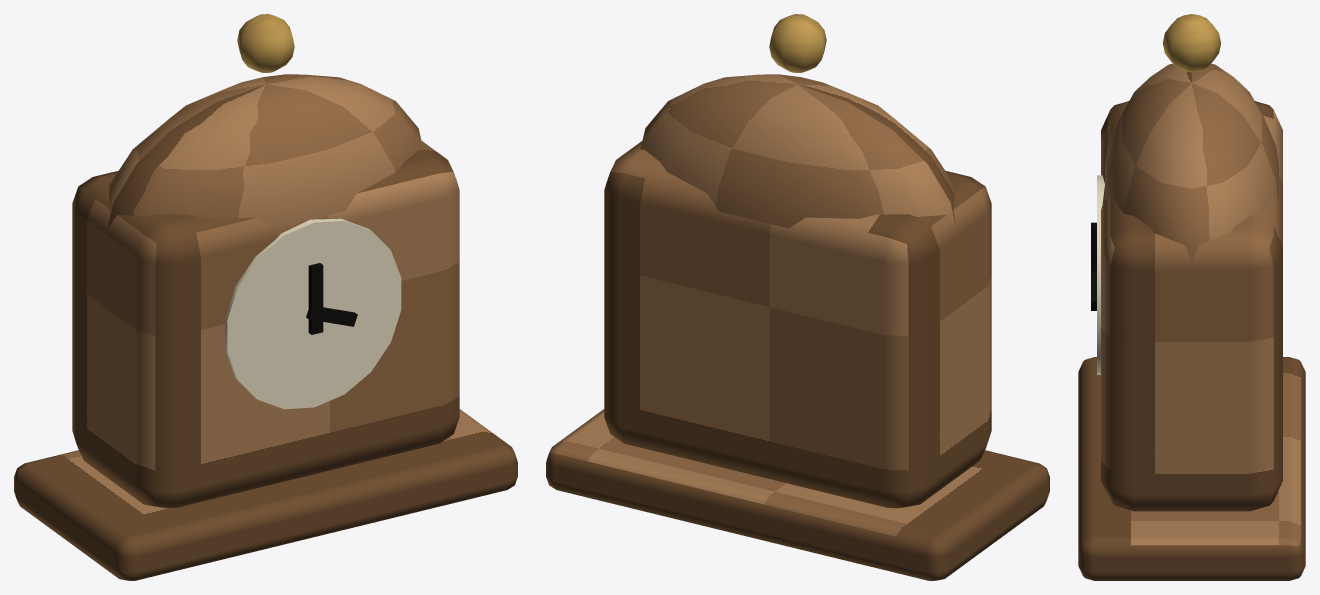
File: mantelClock.glb
3 views of the same model, side by side, from view 1: azimuth 30°, elevation 25°; view 2: azimuth 150°, elevation 25°; view 3: azimuth 270°, elevation 25° (orthographic).
Parts seen in each view (by area): view 1: dyn_wood_variant, mantelClock; view 2: dyn_wood_variant, mantelClock; view 3: dyn_wood_variant, mantelClock.
Boxes of the visible parts, x1=… form: dyn_wood_variant: x1=14, y1=74, x2=517, y2=580; mantelClock: x1=225, y1=14, x2=401, y2=409; dyn_wood_variant: x1=546, y1=74, x2=1049, y2=580; mantelClock: x1=769, y1=14, x2=826, y2=72; dyn_wood_variant: x1=1078, y1=63, x2=1305, y2=580; mantelClock: x1=1091, y1=14, x2=1221, y2=374.
Size of the model in its own units: 0.2801 by 0.322 by 0.14.
Materials: 4 (2 with a texture image).
